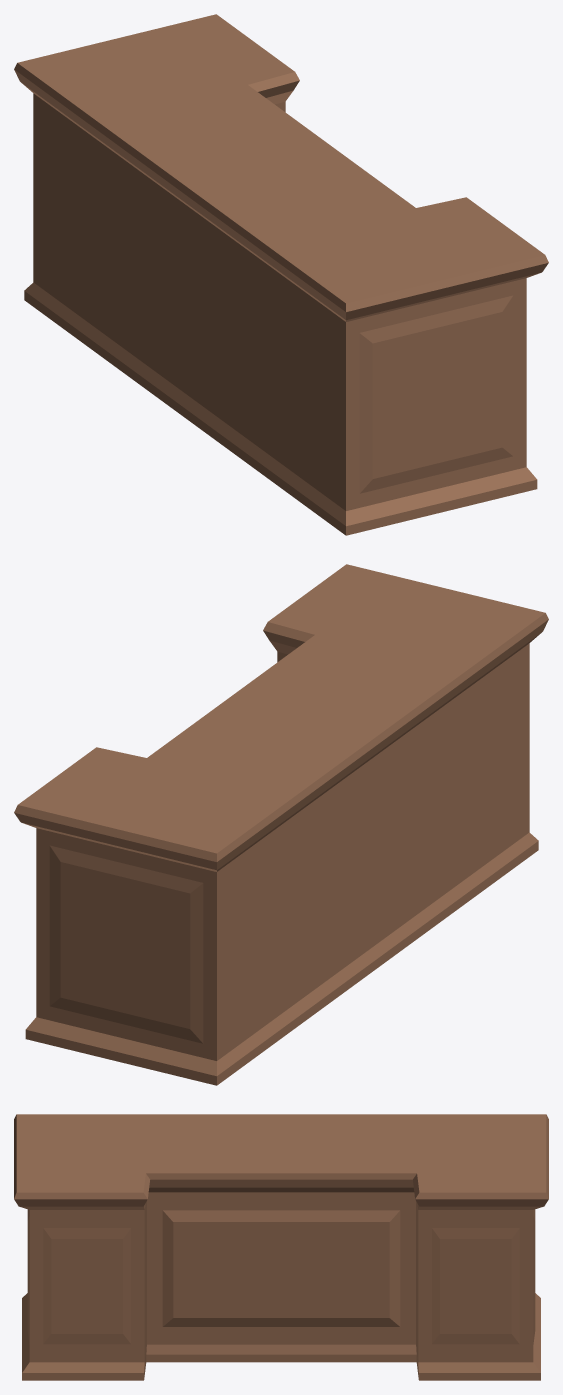
Rendered from BossManDesk3.fbx.
The picture shows the model from 3 angles, top to bottom: view 1: azimuth 30°, elevation 25°; view 2: azimuth 150°, elevation 25°; view 3: azimuth 270°, elevation 25°; orthographic projection. The views are drawn at different scales.
Parts seen in each view (by area): view 1: BossManDesk3; view 2: BossManDesk3; view 3: BossManDesk3.
Boxes of the visible parts, x1,y1,x2,y2 form: BossManDesk3: (14, 14, 548, 535); BossManDesk3: (14, 564, 548, 1085); BossManDesk3: (14, 1114, 548, 1380).
Bounding box in the file's own units: 343 × 380 × 971.
